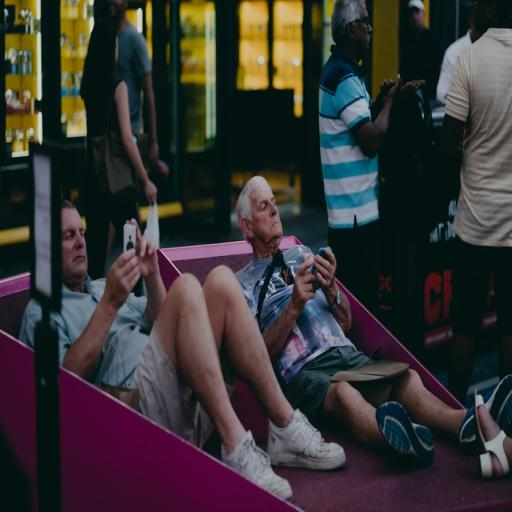face: (62, 208, 87, 289), (249, 188, 282, 246), (352, 5, 372, 57)
